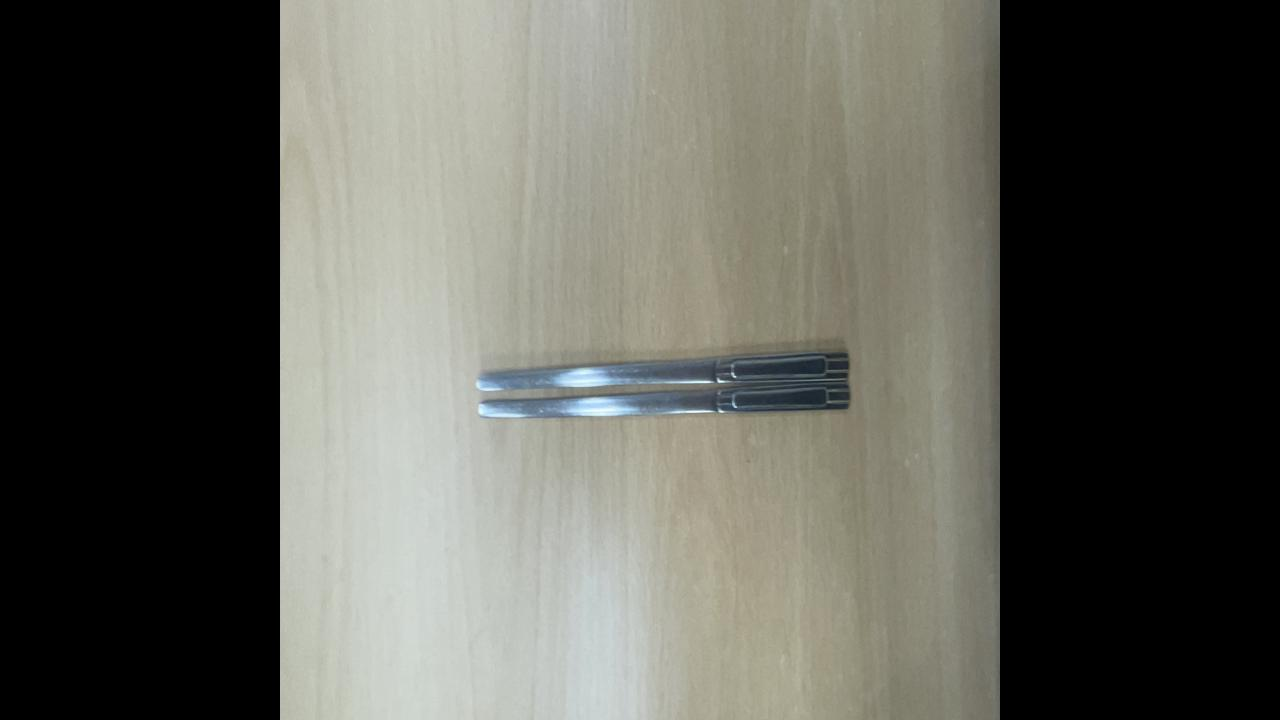chopstick: (476, 346, 851, 418)
